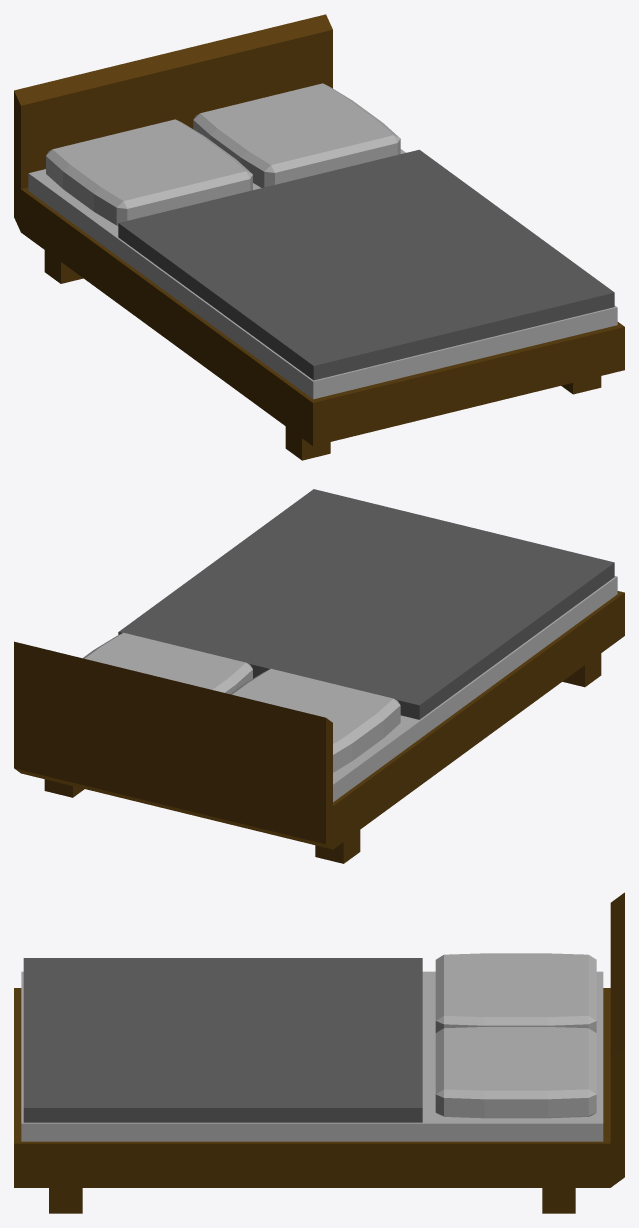
File: Bed.fbx
3 renders of one model, top to bottom at view 1: azimuth 30°, elevation 25°; view 2: azimuth 150°, elevation 25°; view 3: azimuth 270°, elevation 25°, orthographic. The views are drawn at different scales.
Visible parts, largest first — view 1: Bed; view 2: Bed; view 3: Bed.
Part boxes in pixels (x1=…): Bed: x1=14, y1=14, x2=624, y2=460; Bed: x1=14, y1=489, x2=624, y2=863; Bed: x1=14, y1=892, x2=624, y2=1213.
Bounding box in the file's own units: 458 × 232 × 760.
